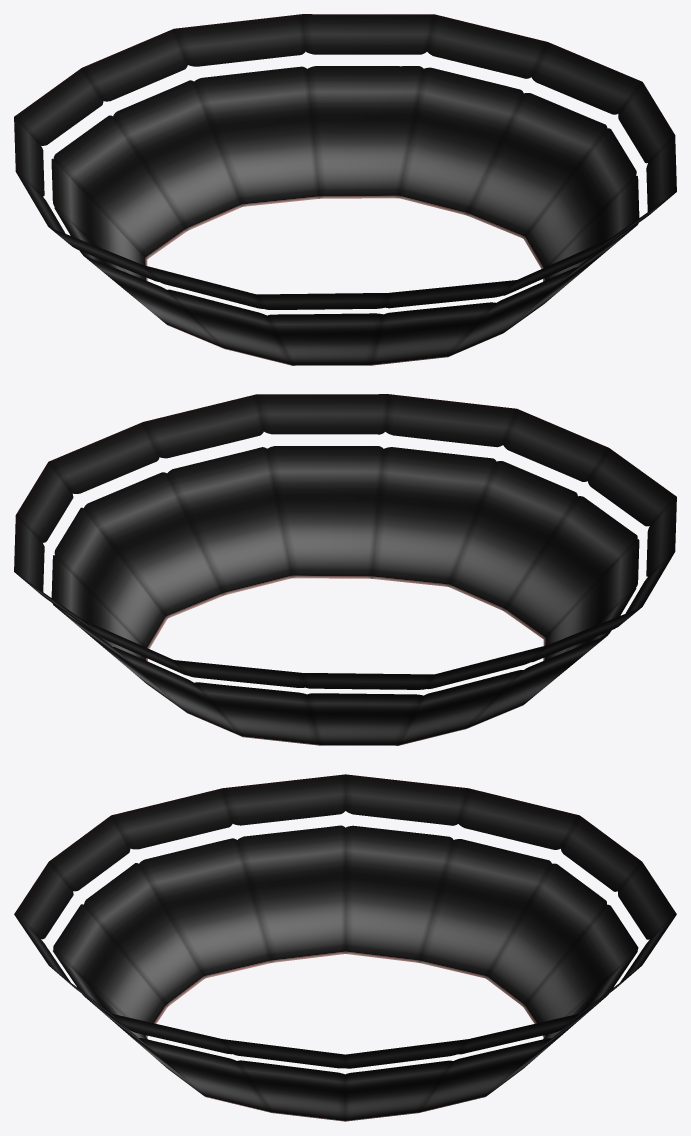
3 views of the same model, one above another, from view 1: azimuth 30°, elevation 25°; view 2: azimuth 150°, elevation 25°; view 3: azimuth 270°, elevation 25° (orthographic). The views are drawn at different scales.
Visible parts, largest first — view 1: T1L2M006_16; view 2: T1L2M006_16; view 3: T1L2M006_16.
Boxes of the visible parts, left/top/right/bottom form: T1L2M006_16: left=14, top=14, right=676, bottom=365; T1L2M006_16: left=14, top=394, right=676, bottom=745; T1L2M006_16: left=14, top=774, right=676, bottom=1121.
Bounding box in the file's own units: 2.87 × 0.5947 × 2.87.
